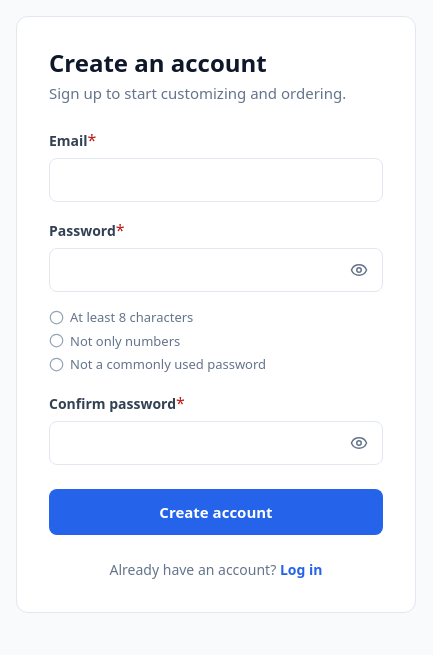
RegisterPage › rejects a mismatched password confirmation
In the field labelled "Email": (216, 180) top-left (49, 158), bottom-right (383, 202), type "shopper@example.test"
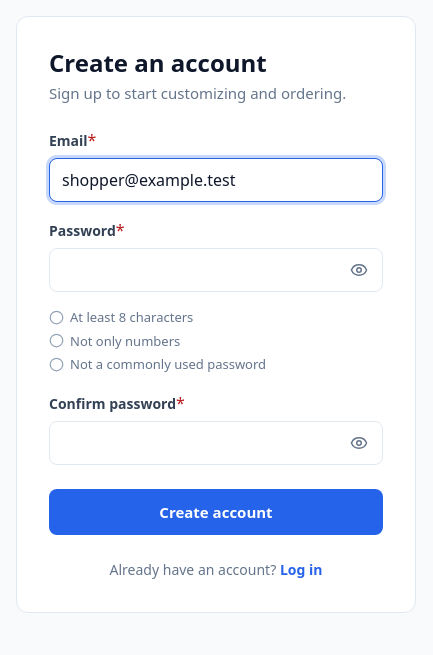
In the password field labelled "Password": (216, 270) top-left (49, 248), bottom-right (383, 292), type "CorrectHorseBattery9!"
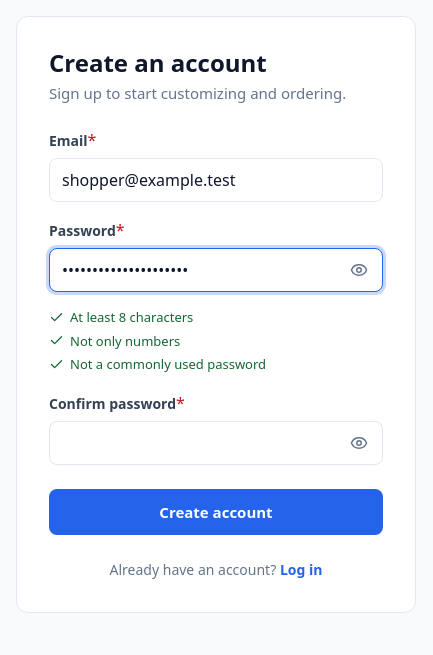
In the password field labelled "Confirm password": (216, 443) top-left (49, 421), bottom-right (383, 465), type "ADifferentPassword1!"
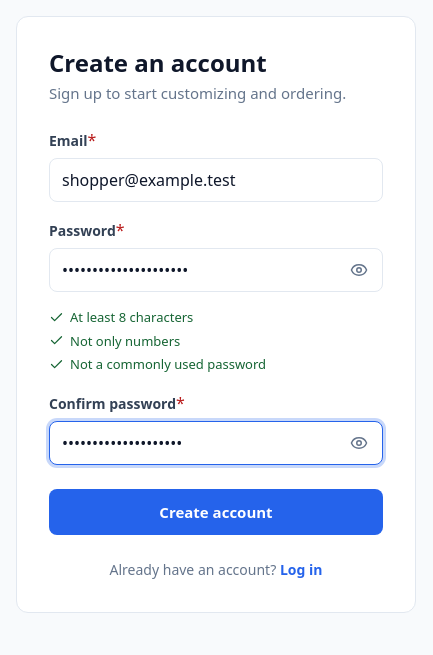
Click the button "Create account": (216, 512) top-left (49, 489), bottom-right (383, 535)
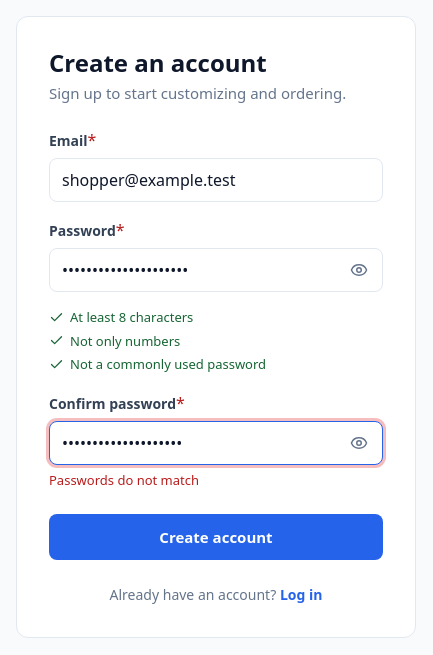
Expected: the text "Passwords do not match" is shown, top-left (49, 471), bottom-right (199, 489)
